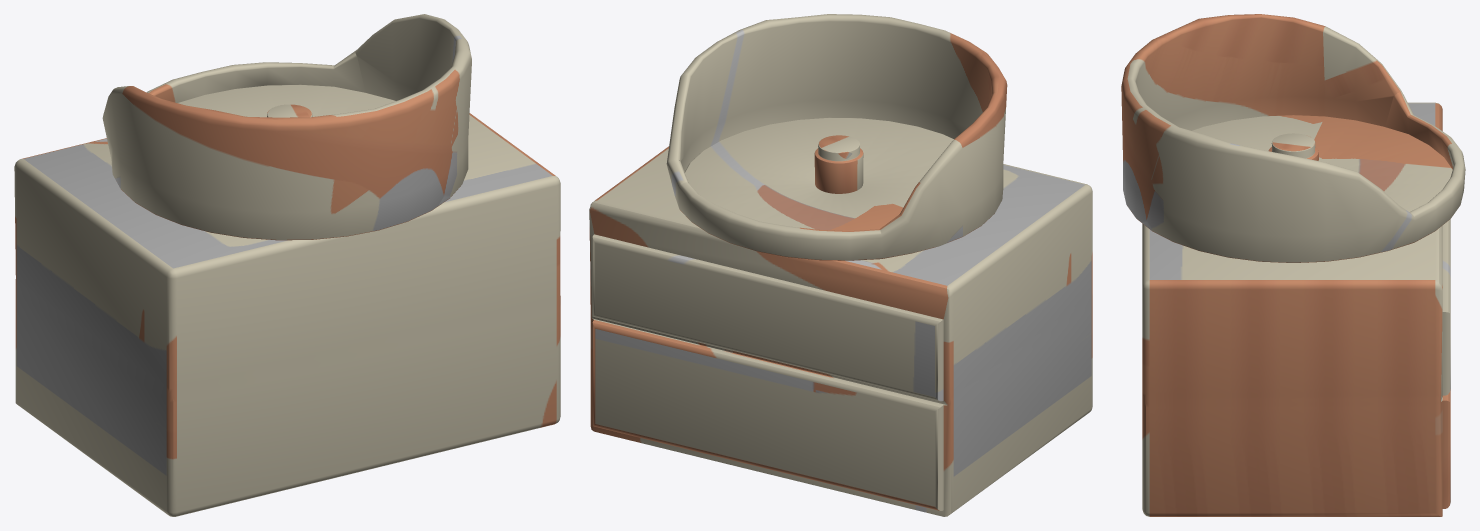
File: Mesh_Enviro_CottonCandy_Machine.fbx
The picture shows the model from 3 angles, left to right: view 1: azimuth 30°, elevation 25°; view 2: azimuth 150°, elevation 25°; view 3: azimuth 270°, elevation 25°; orthographic projection. The views are drawn at different scales.
Visible parts, largest first — view 1: cotoncandy_machine; view 2: cotoncandy_machine; view 3: cotoncandy_machine.
Boxes of the visible parts, left/top/right/bottom form: cotoncandy_machine: left=14, top=14, right=560, bottom=516; cotoncandy_machine: left=589, top=14, right=1092, bottom=516; cotoncandy_machine: left=1121, top=14, right=1465, bottom=516.
Bounding box in the file's own units: 75.09 × 67.38 × 59.74.
